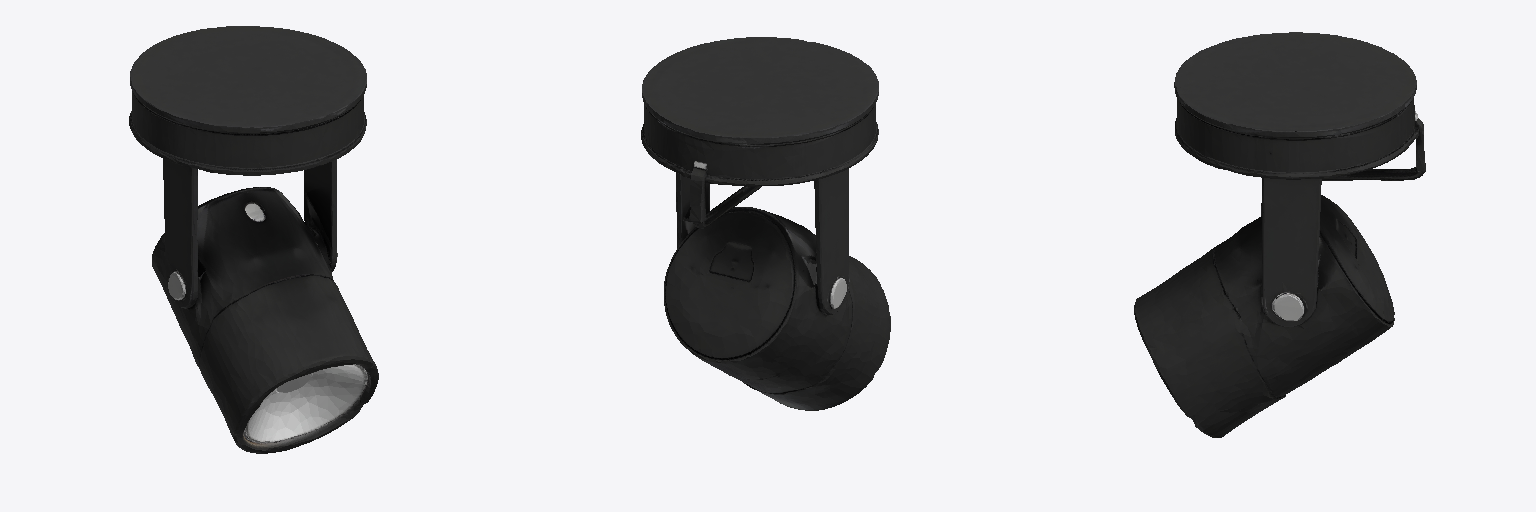
3 renders of one model, left to right at view 1: azimuth 30°, elevation 25°; view 2: azimuth 150°, elevation 25°; view 3: azimuth 270°, elevation 25°, orthographic.
Parts seen in each view (by area): view 1: Illuminated_Focus_[number redacted]_texture; view 2: Illuminated_Focus_[number redacted]_texture; view 3: Illuminated_Focus_[number redacted]_texture.
Boxes of the visible parts, box(x1,y1,x2,y2) form: Illuminated_Focus_[number redacted]_texture: box(129, 26, 378, 453); Illuminated_Focus_[number redacted]_texture: box(641, 37, 890, 410); Illuminated_Focus_[number redacted]_texture: box(1134, 32, 1425, 437).
Bounding box in the file's own units: 0.1843 × 0.3 × 0.2277.
1 materials, 1 textured.